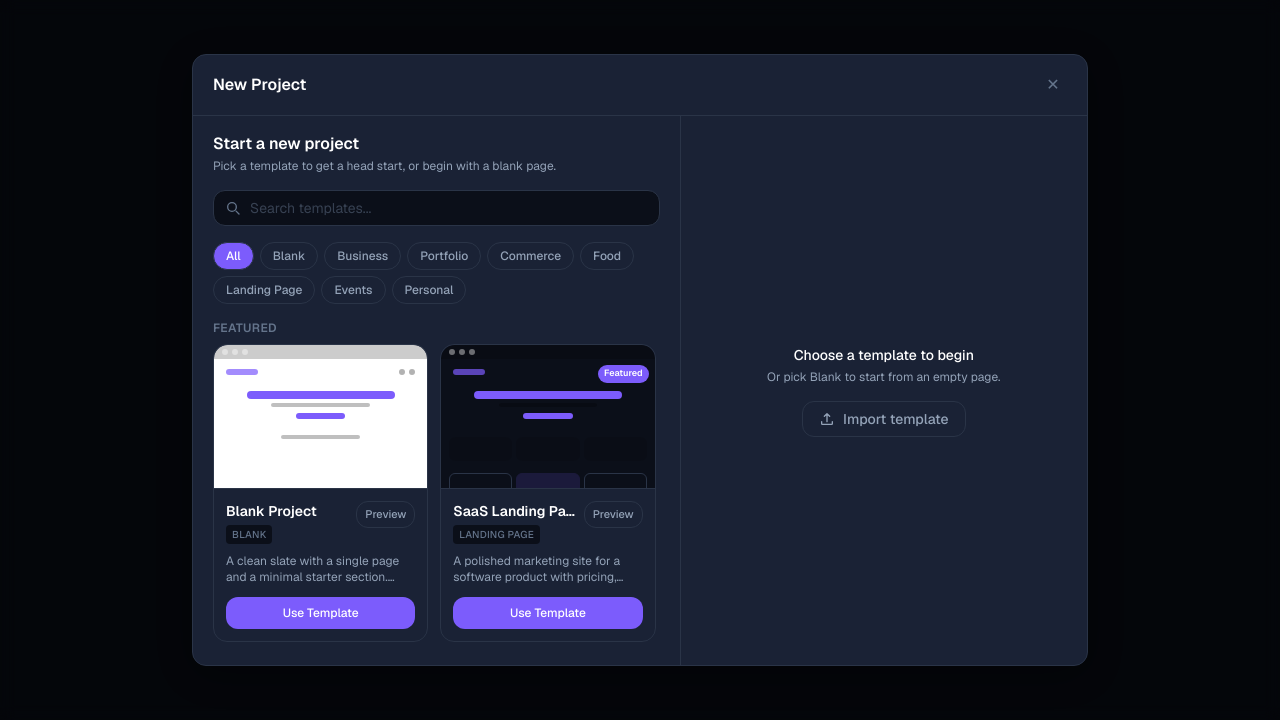
Scenario: NewProjectDialog › selecting a template sets its default project name
This screenshot has width=1280, height=720.
Click the button "Use Template" below "SaaS Landing Page": (548,613) left=453, top=597, right=643, bottom=629
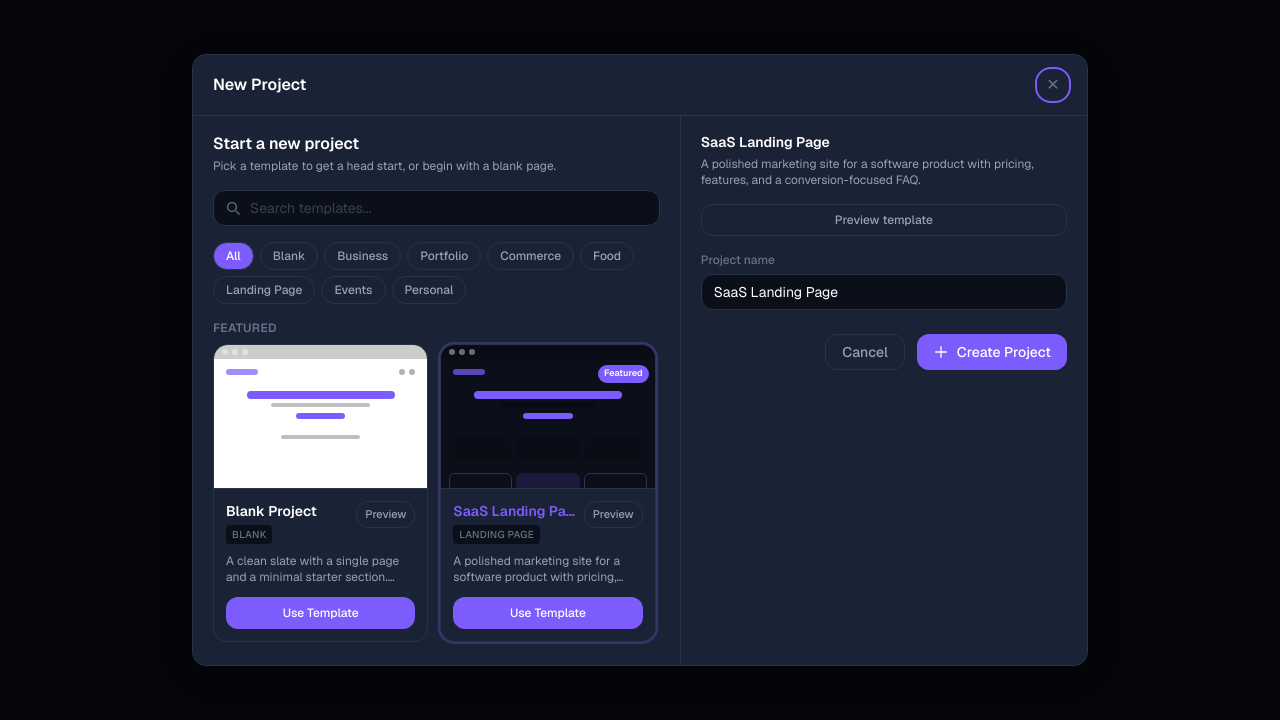
Check: the field labelled "Project name" holds "SaaS Landing Page", box left=701, top=274, right=1067, bottom=310
